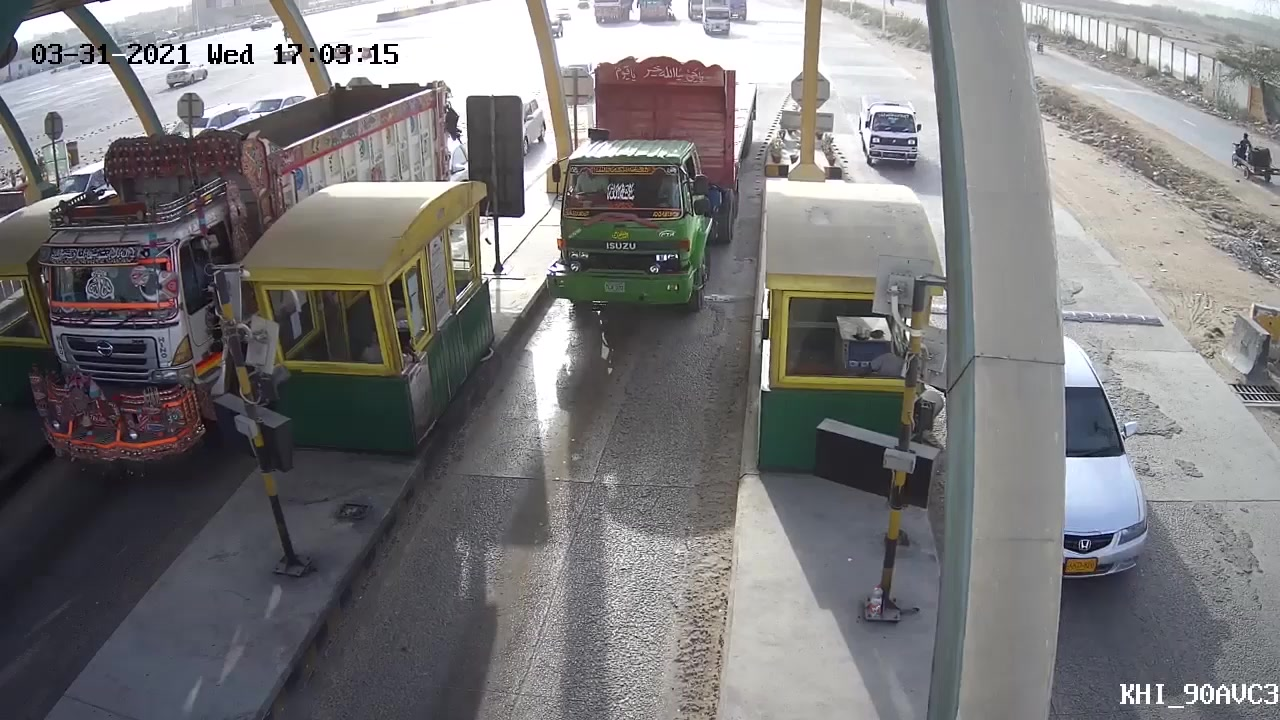F5: (543, 49, 760, 330)
